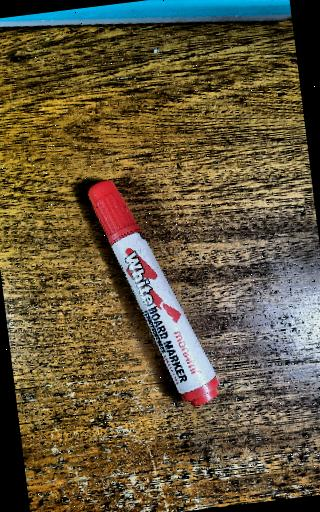marcador rojo: (88, 180, 219, 406)
